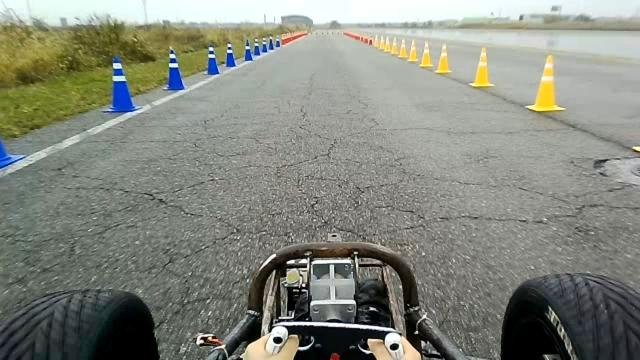blue cone: (102, 56, 141, 112), (162, 48, 185, 90), (203, 44, 220, 75), (224, 42, 237, 68), (244, 39, 253, 61), (252, 37, 260, 55), (261, 37, 268, 52), (268, 36, 274, 51), (275, 35, 281, 49)
yellow cone: (525, 54, 566, 112), (468, 47, 494, 88), (434, 42, 452, 74), (419, 40, 433, 67), (407, 38, 418, 62), (398, 38, 408, 59), (390, 37, 398, 55), (383, 36, 392, 52), (378, 35, 386, 50)
